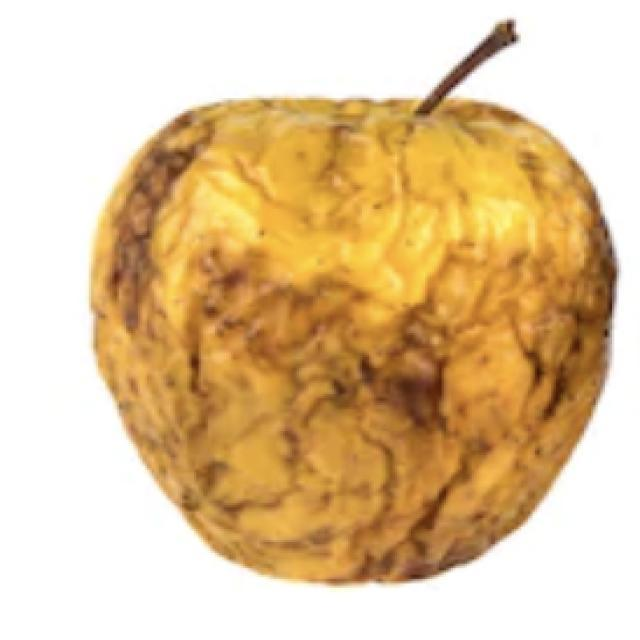Rotten: (137, 89, 630, 574)
